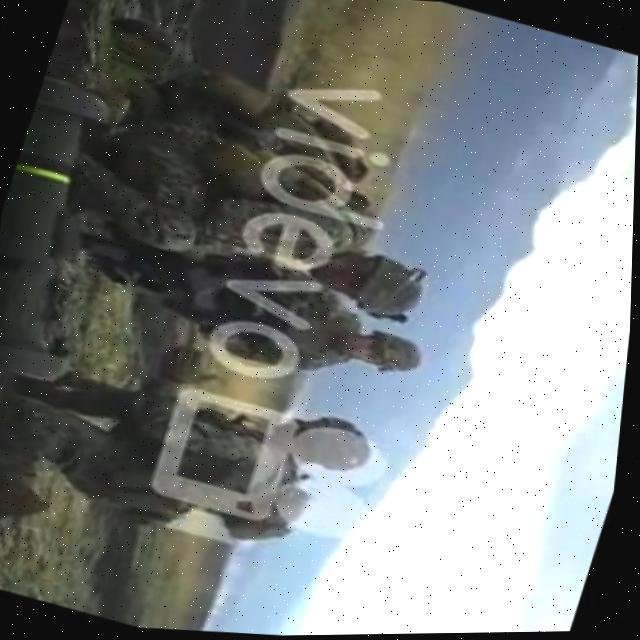rocket: (0, 69, 156, 388)
